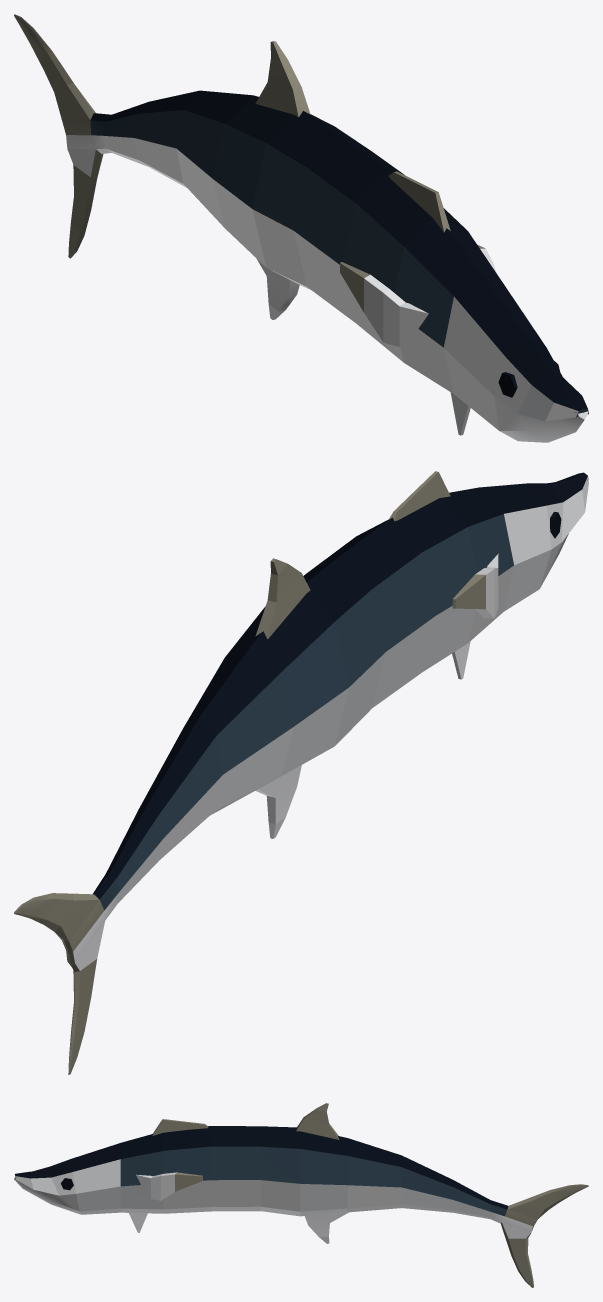
File: Mesh_Kingfish-animation4.obj
3 renders of one model, top to bottom at view 1: azimuth 30°, elevation 25°; view 2: azimuth 150°, elevation 25°; view 3: azimuth 270°, elevation 25°, orthographic. The views are drawn at different scales.
Visible parts, largest first — view 1: Mesh_Kingfish; view 2: Mesh_Kingfish; view 3: Mesh_Kingfish.
Boxes of the visible parts, bbox=[...] form: Mesh_Kingfish: bbox=[14, 14, 588, 442]; Mesh_Kingfish: bbox=[14, 471, 588, 1074]; Mesh_Kingfish: bbox=[14, 1103, 588, 1287].
Size of the model in its own units: 17.26 by 49.51 by 140.
Materials: 1 (1 with a texture image).
